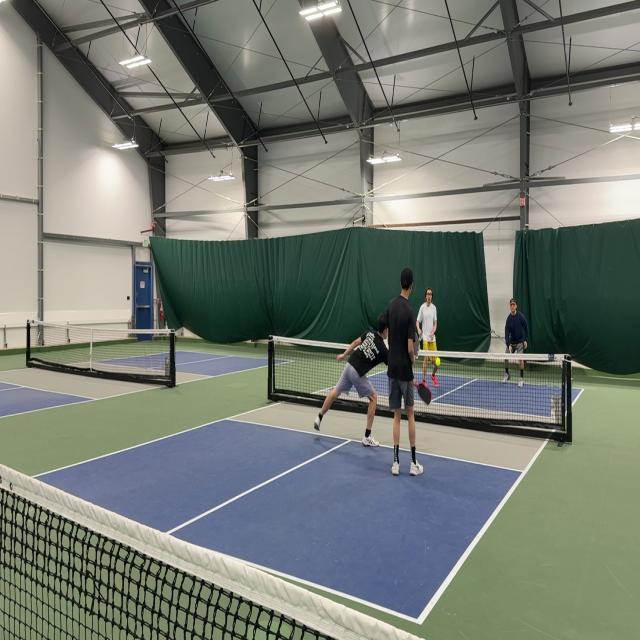ball: (435, 357, 441, 367)
